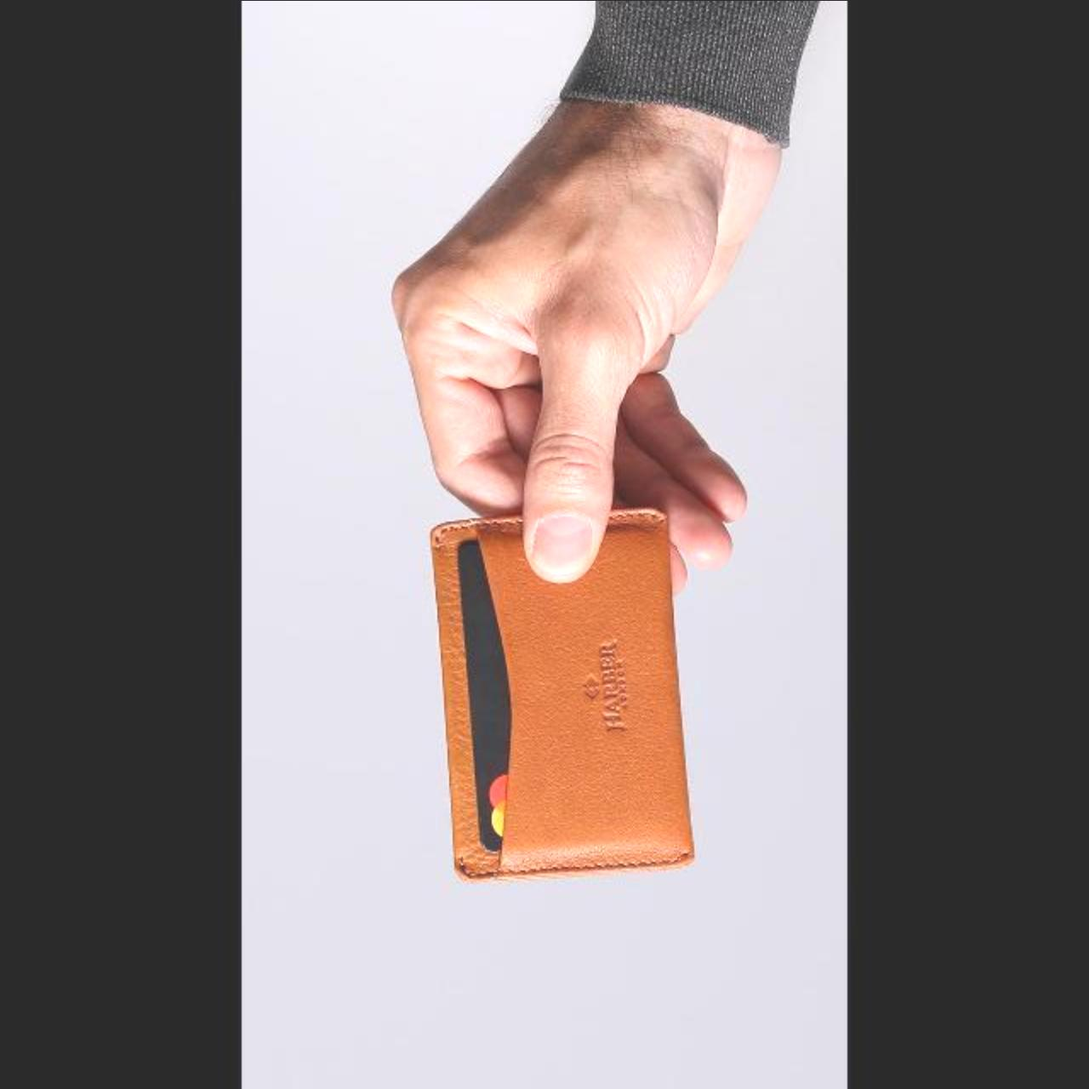wallet: (428, 488, 690, 905)
